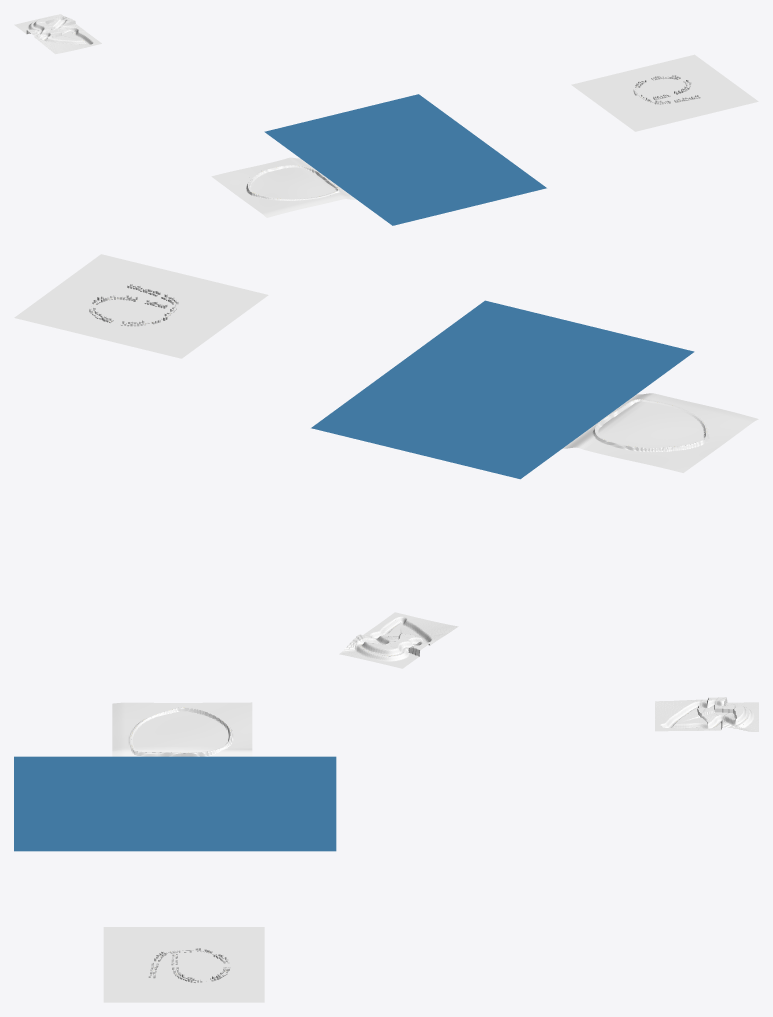
File: tracks.glb
The picture shows the model from 3 angles, top to bottom: view 1: azimuth 30°, elevation 25°; view 2: azimuth 150°, elevation 25°; view 3: azimuth 270°, elevation 25°; orthographic projection. The views are drawn at different scales.
Parts seen in each view (by area): view 1: coastal_ocean, downtown_ground, coastal_terrain, canyon_terrain; view 2: coastal_ocean, downtown_ground, coastal_terrain, canyon_terrain; view 3: coastal_ocean, downtown_ground, coastal_terrain, canyon_terrain.
Boxes of the visible parts, <box> form: coastal_ocean: <box>264,94,546,225</box>; downtown_ground: <box>571,54,758,131</box>; coastal_terrain: <box>211,157,356,217</box>; canyon_terrain: <box>14,14,101,54</box>; coastal_ocean: <box>311,300,694,479</box>; downtown_ground: <box>14,254,268,358</box>; coastal_terrain: <box>563,393,758,472</box>; canyon_terrain: <box>339,612,458,668</box>; coastal_ocean: <box>14,756,336,851</box>; downtown_ground: <box>103,927,264,1002</box>; coastal_terrain: <box>112,702,252,756</box>; canyon_terrain: <box>655,697,758,731</box>.
Size of what is drawn, in the model's own units: 7900 by 186 by 8320.
